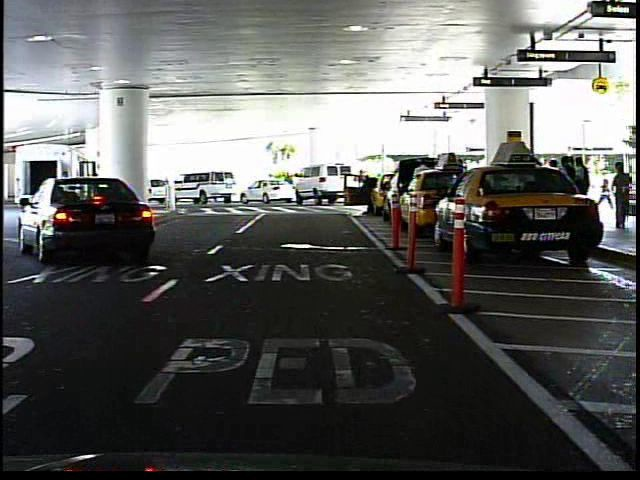person: (607, 159, 635, 230), (357, 168, 381, 221), (596, 164, 613, 212), (284, 169, 296, 199), (267, 172, 276, 180)
